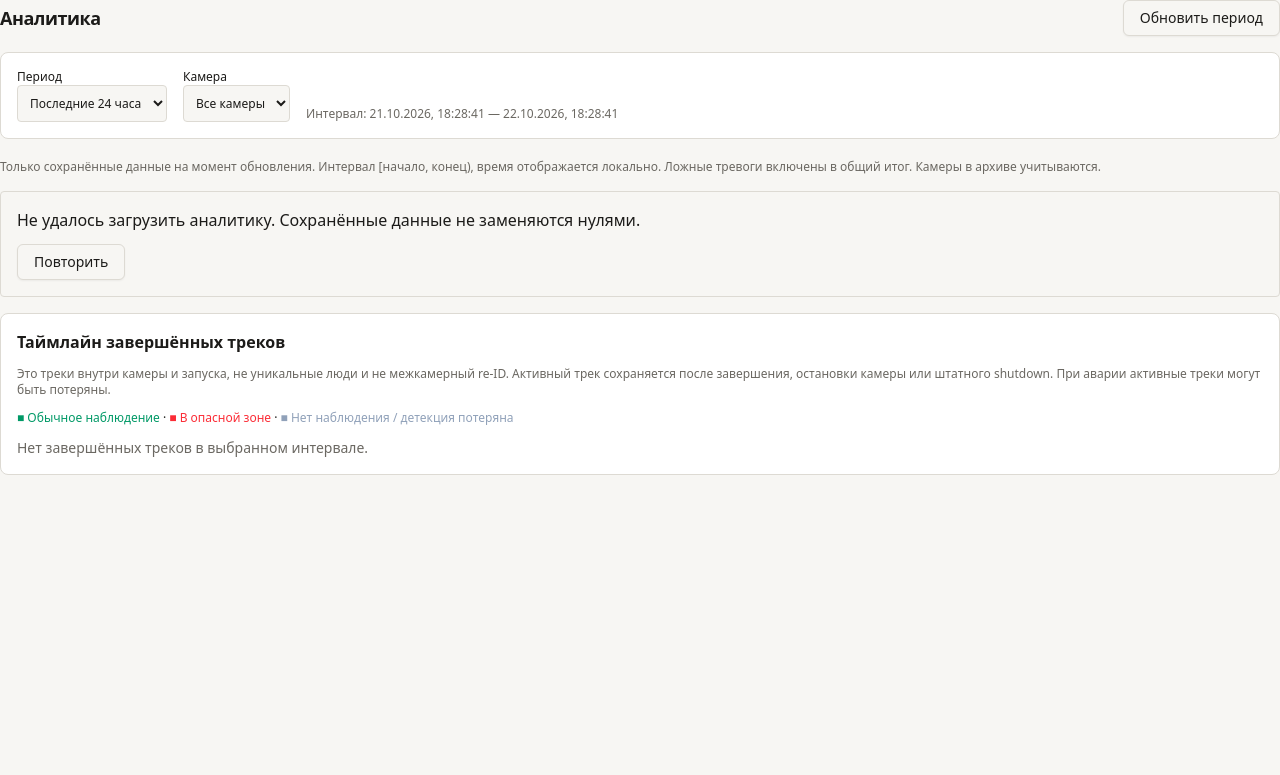
Test: reports errors rather than manufacturing zero cards and supports retry
Expected: the message shows "не заменяются нулями", [17,209,640,231]
Click the button "Повторить" at point(71, 262), box [17,244,125,280]
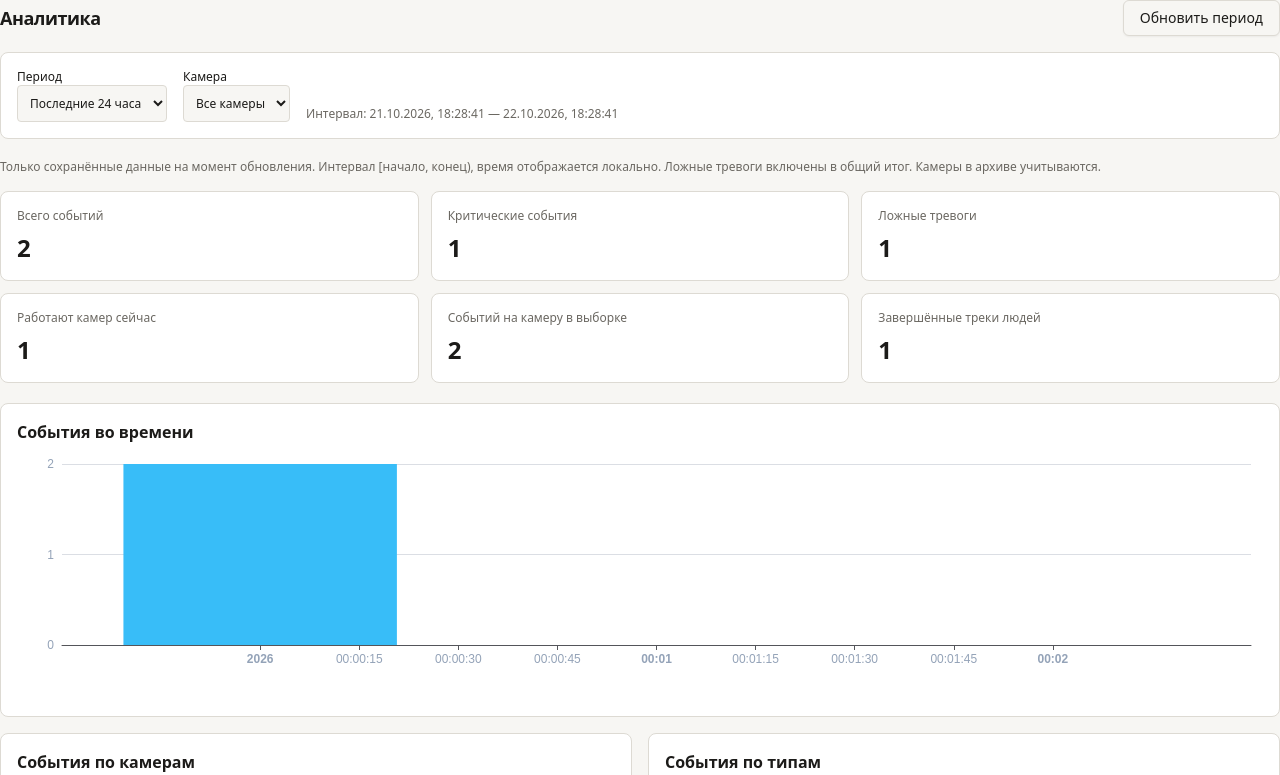
Expected: the text "Всего событий" is shown, [17,207,104,224]
